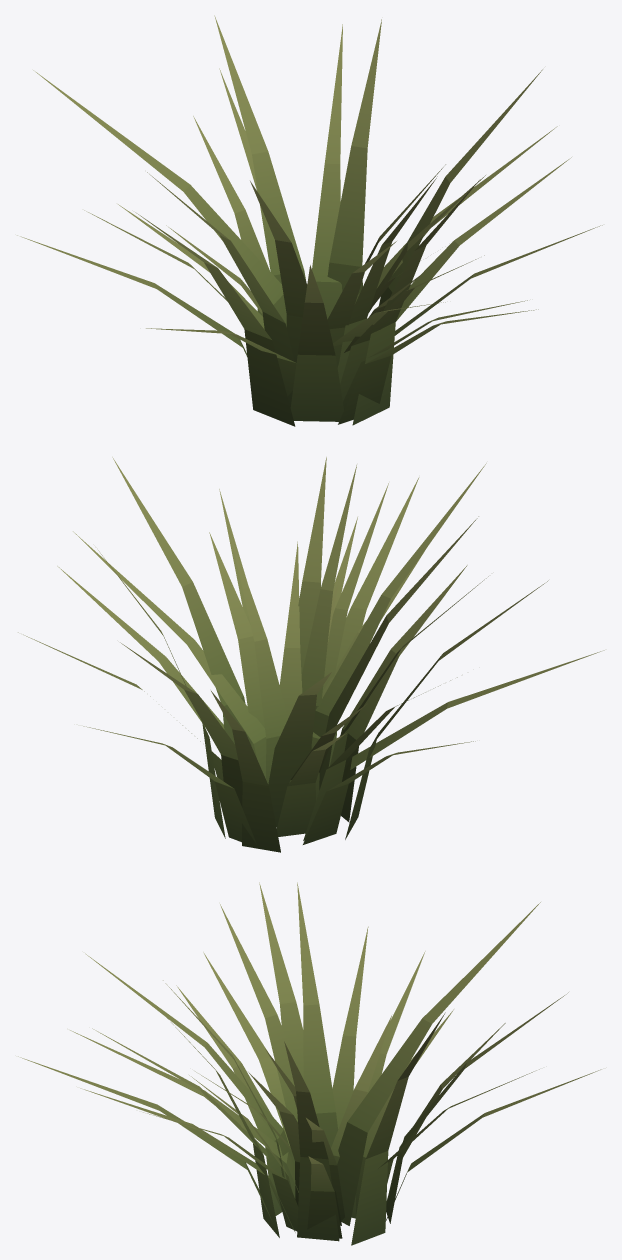
File: grass_green_01.glb
3 renders of one model, top to bottom at view 1: azimuth 30°, elevation 25°; view 2: azimuth 150°, elevation 25°; view 3: azimuth 270°, elevation 25°, orthographic. The views are drawn at different scales.
Visible parts, largest first — view 1: grass_green_01; view 2: grass_green_01; view 3: grass_green_01.
Part boxes in pixels (left/top/right/bottom): grass_green_01: left=17, top=15, right=602, bottom=426; grass_green_01: left=18, top=457, right=604, bottom=852; grass_green_01: left=18, top=882, right=601, bottom=1245.
Size of the model in its own units: 0.9359 by 0.5456 by 1.1.
